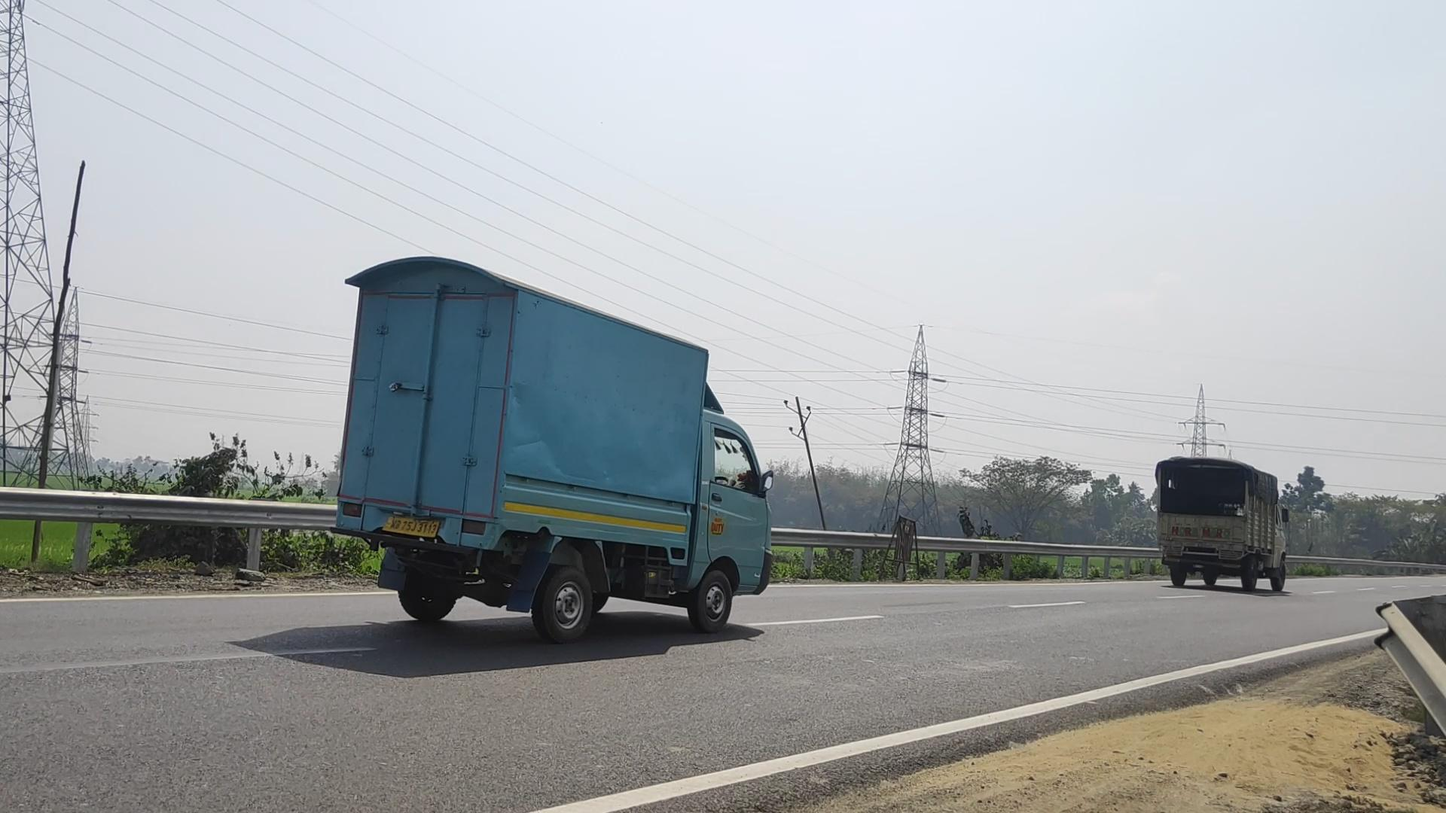truck: (1155, 455, 1289, 592)
van: (330, 256, 772, 644)
